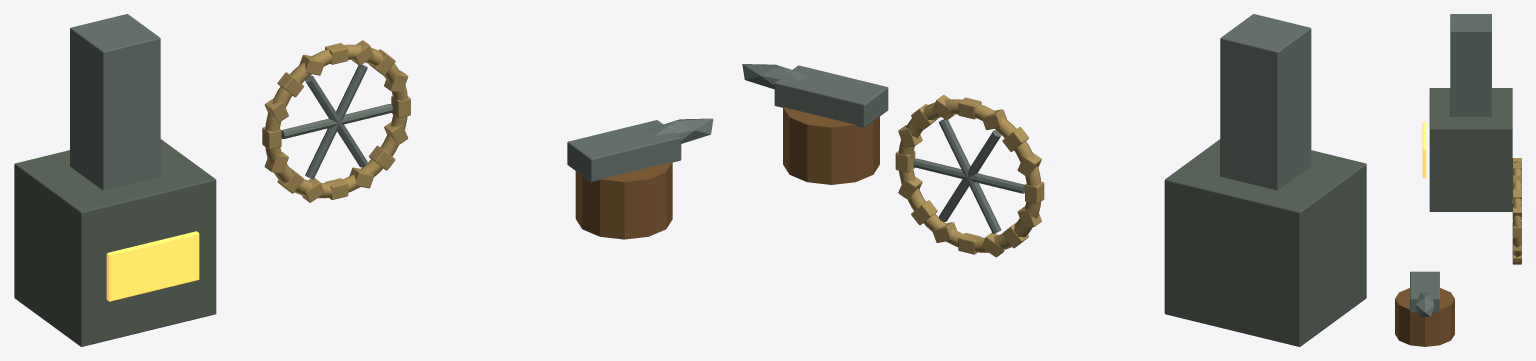
File: facility_forge.glb
The picture shows the model from 3 angles, left to right: view 1: azimuth 30°, elevation 25°; view 2: azimuth 150°, elevation 25°; view 3: azimuth 270°, elevation 25°; orthographic projection. The views are drawn at different scales.
Visible parts, largest first — view 1: Props, Energy; view 2: Props; view 3: Props, Energy.
Part boxes in pixels (<box>): Props: <box>14,14,713,346</box>; Energy: <box>106,231,199,301</box>; Props: <box>742,14,1366,346</box>; Props: <box>1395,14,1521,346</box>; Energy: <box>1422,122,1426,177</box>.
Bounding box in the file's own units: 9.73 × 4.06 × 2.75.
